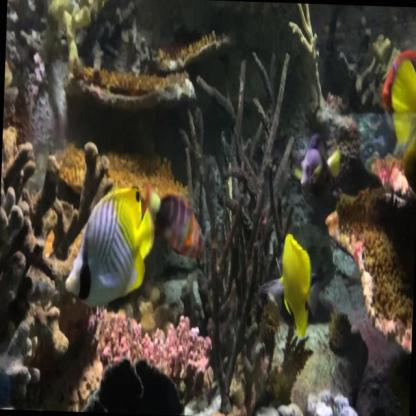fish: (64, 185, 156, 308), (152, 193, 206, 259), (280, 233, 313, 341), (296, 132, 342, 196), (392, 33, 415, 146), (381, 49, 415, 115)
